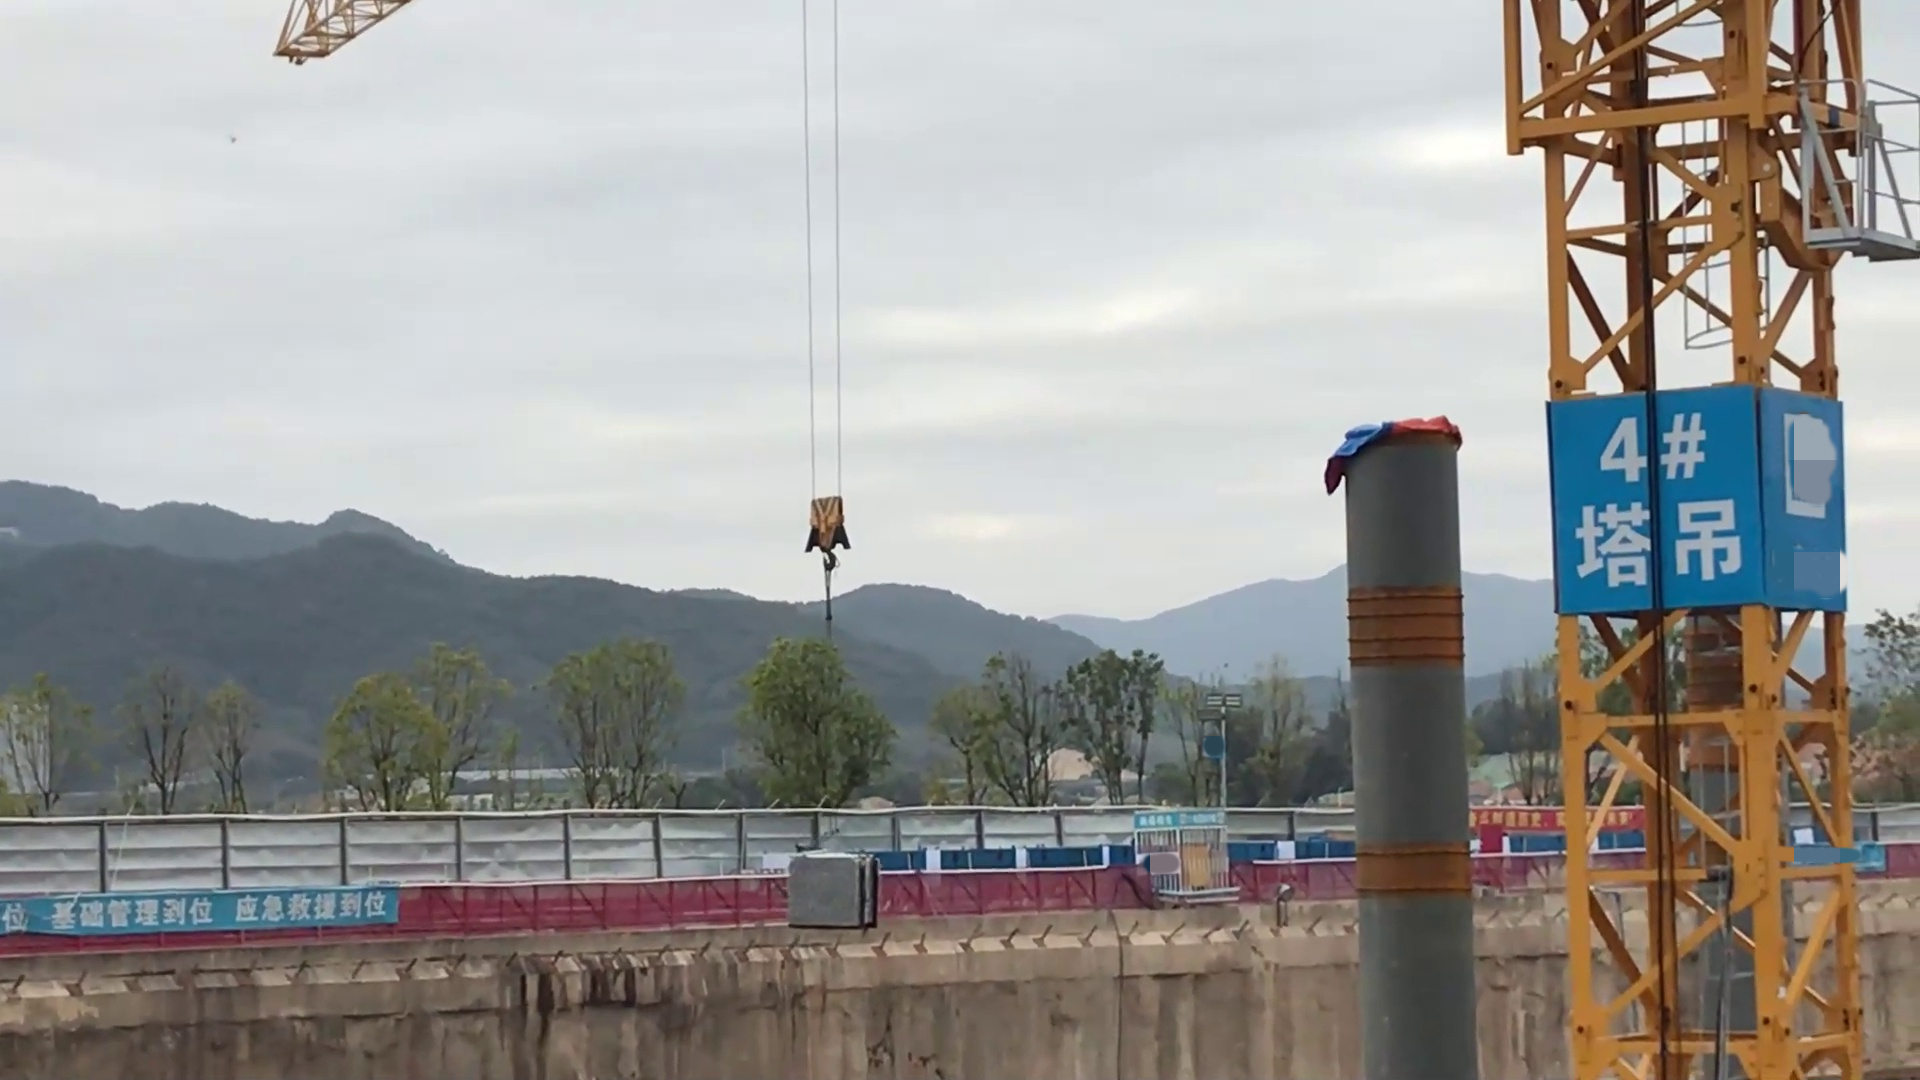fence: (1, 847, 1920, 963)
hook: (794, 491, 851, 572)
scaffold: (779, 847, 887, 938)
slogan: (4, 882, 398, 942), (1473, 804, 1643, 833)
